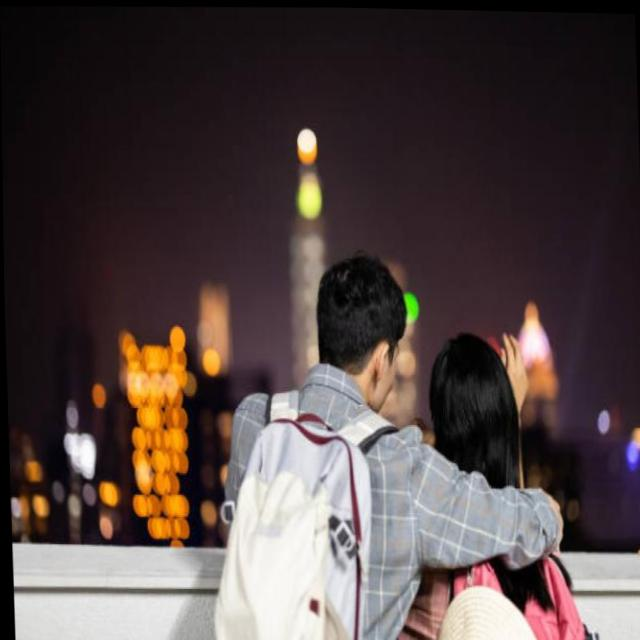no helmet: (424, 319, 522, 488), (314, 243, 403, 416)
